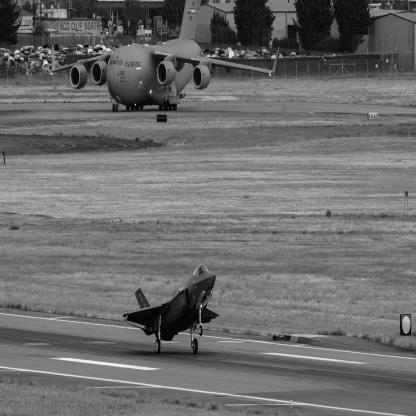C17: (51, 1, 280, 113)
F35: (123, 265, 222, 355)
